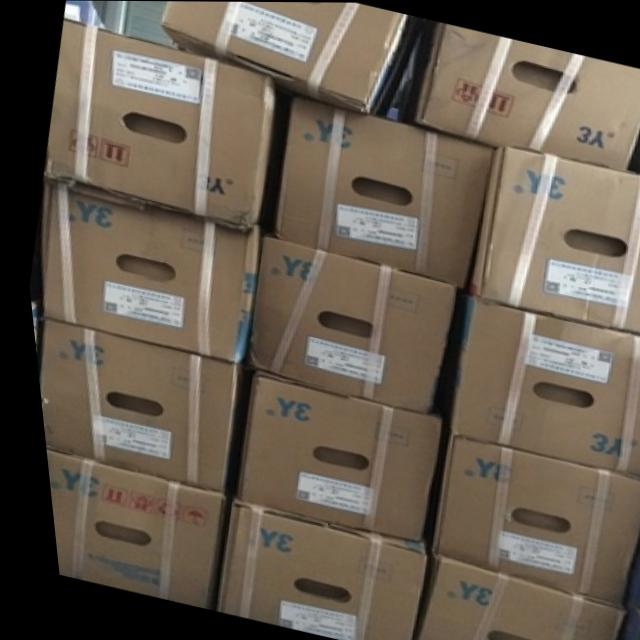box: (42, 18, 287, 231), (274, 96, 489, 286), (37, 176, 252, 365), (419, 435, 640, 606), (392, 21, 640, 169), (245, 236, 449, 413), (442, 296, 640, 476), (224, 370, 432, 539), (31, 319, 228, 496), (462, 147, 640, 334), (200, 499, 410, 640), (162, 1, 421, 115), (37, 447, 213, 605), (399, 554, 614, 640)
